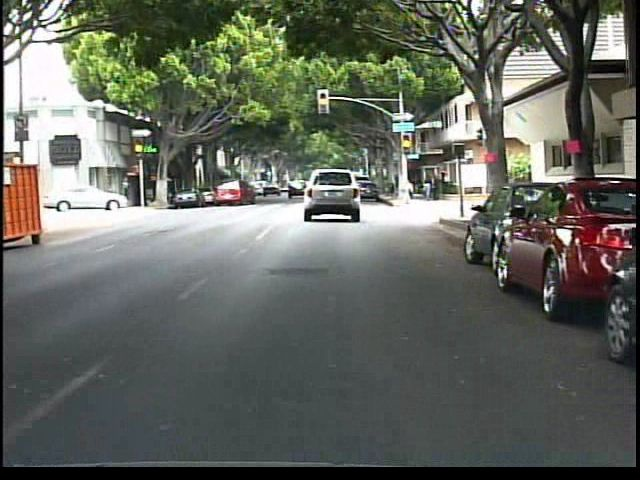person: (429, 168, 442, 204), (422, 172, 435, 202)
